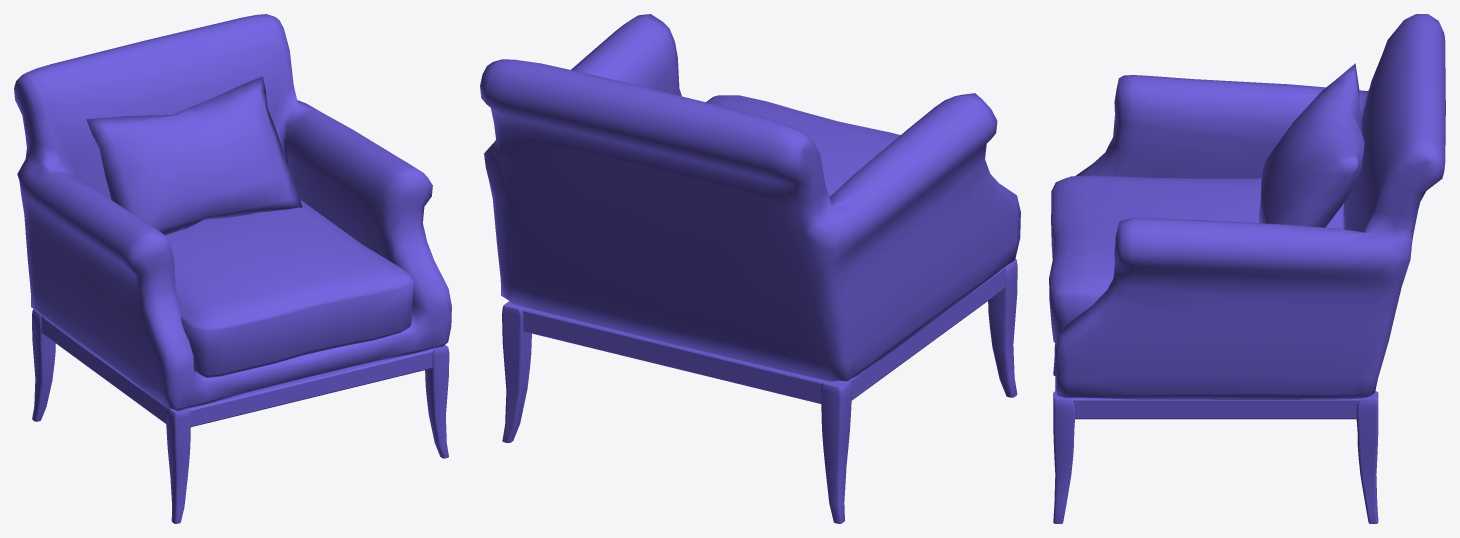
File: testFBX.FBX
The picture shows the model from 3 angles, left to right: view 1: azimuth 30°, elevation 25°; view 2: azimuth 150°, elevation 25°; view 3: azimuth 270°, elevation 25°; orthographic projection. The views are drawn at different scales.
Visible parts, largest first — view 1: 对象013; view 2: 对象013; view 3: 对象013.
Part boxes in pixels (x1,y1,x2,y2): 对象013: (14, 14, 451, 523); 对象013: (480, 14, 1020, 523); 对象013: (1049, 14, 1445, 523).
Bounding box in the file's own units: 837 × 869 × 837.
